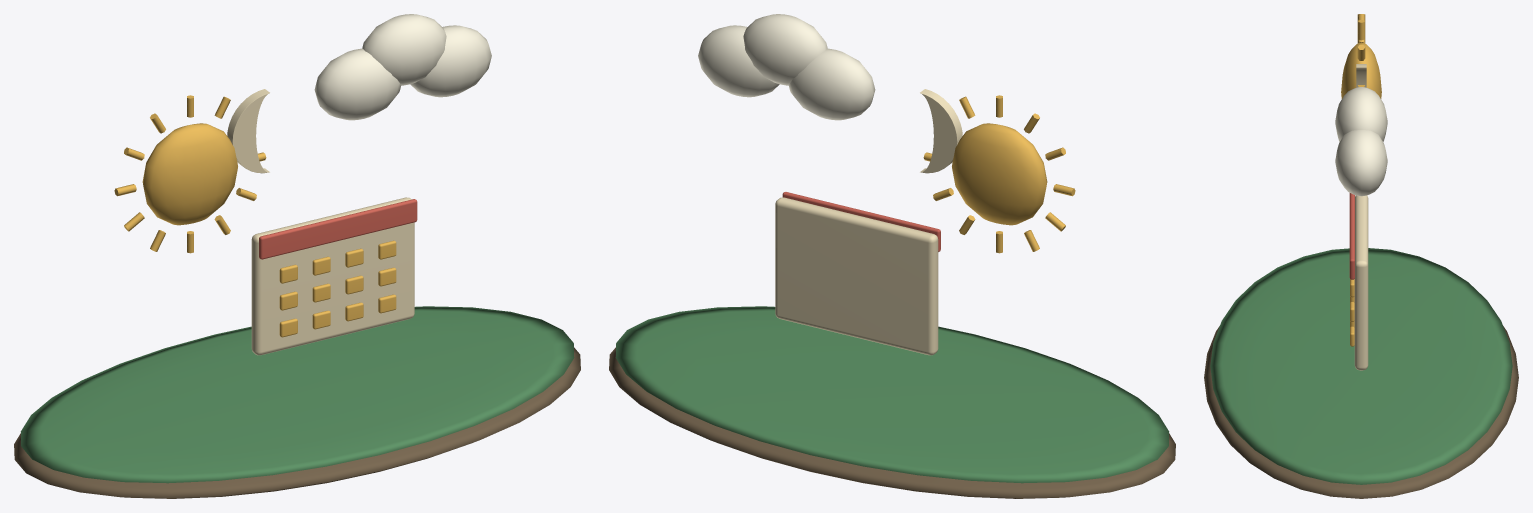
File: tomorrow-sky.glb
3 views of the same model, side by side, from view 1: azimuth 30°, elevation 25°; view 2: azimuth 150°, elevation 25°; view 3: azimuth 270°, elevation 25° (orthographic). The views are drawn at different scales.
Parts seen in each view (by area): view 1: tomorrow-sky_surface_01, tomorrow-sky_surface_04, tomorrow-sky_surface_02, tomorrow-sky_surface_03, tomorrow-sky_surface_00, tomorrow-sky_surface_05; view 2: tomorrow-sky_surface_01, tomorrow-sky_surface_04, tomorrow-sky_surface_03, tomorrow-sky_surface_00, tomorrow-sky_surface_02, tomorrow-sky_surface_05; view 3: tomorrow-sky_surface_01, tomorrow-sky_surface_00, tomorrow-sky_surface_03, tomorrow-sky_surface_04, tomorrow-sky_surface_02, tomorrow-sky_surface_05.
Part boxes in pixels (left/top/right/bottom): tomorrow-sky_surface_01: left=20, top=306, right=574, bottom=483; tomorrow-sky_surface_04: left=227, top=89, right=414, bottom=355; tomorrow-sky_surface_02: left=114, top=95, right=396, bottom=337; tomorrow-sky_surface_03: left=314, top=14, right=491, bottom=120; tomorrow-sky_surface_00: left=14, top=347, right=580, bottom=498; tomorrow-sky_surface_05: left=259, top=199, right=417, bottom=259; tomorrow-sky_surface_01: left=615, top=306, right=1169, bottom=483; tomorrow-sky_surface_04: left=775, top=89, right=962, bottom=355; tomorrow-sky_surface_03: left=698, top=14, right=875, bottom=120; tomorrow-sky_surface_00: left=609, top=347, right=1175, bottom=498; tomorrow-sky_surface_02: left=923, top=95, right=1075, bottom=253; tomorrow-sky_surface_05: left=782, top=192, right=940, bottom=251; tomorrow-sky_surface_01: left=1210, top=248, right=1512, bottom=484; tomorrow-sky_surface_00: left=1204, top=326, right=1518, bottom=498; tomorrow-sky_surface_03: left=1335, top=87, right=1387, bottom=196; tomorrow-sky_surface_04: left=1354, top=64, right=1368, bottom=370; tomorrow-sky_surface_02: left=1341, top=14, right=1381, bottom=346; tomorrow-sky_surface_05: left=1349, top=193, right=1354, bottom=279.
Bounding box in the file's own units: 4.56 × 3.05 × 2.5.
